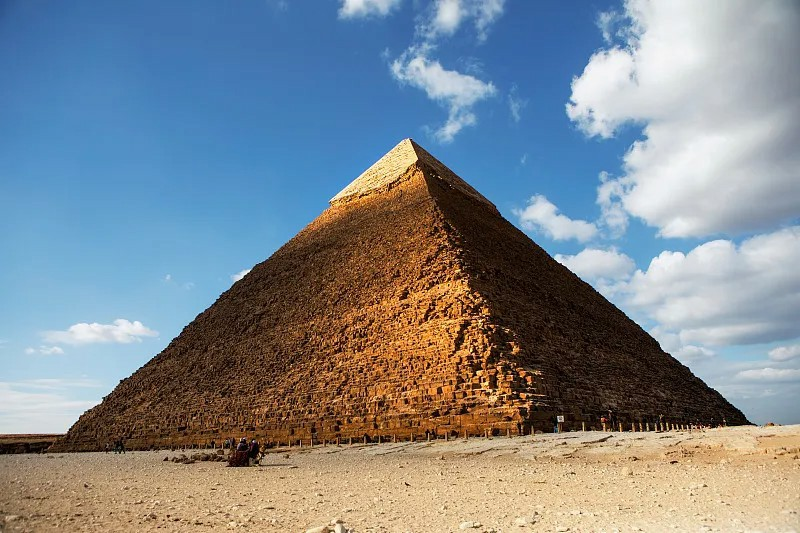Pyramid: (41, 137, 753, 450)
